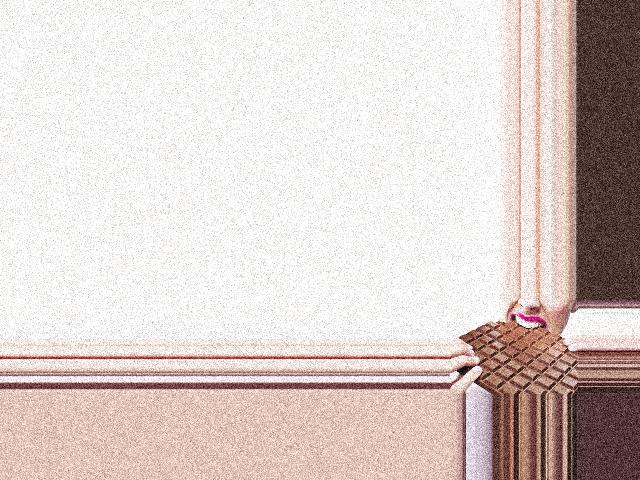chocolate: (449, 318, 577, 394)
